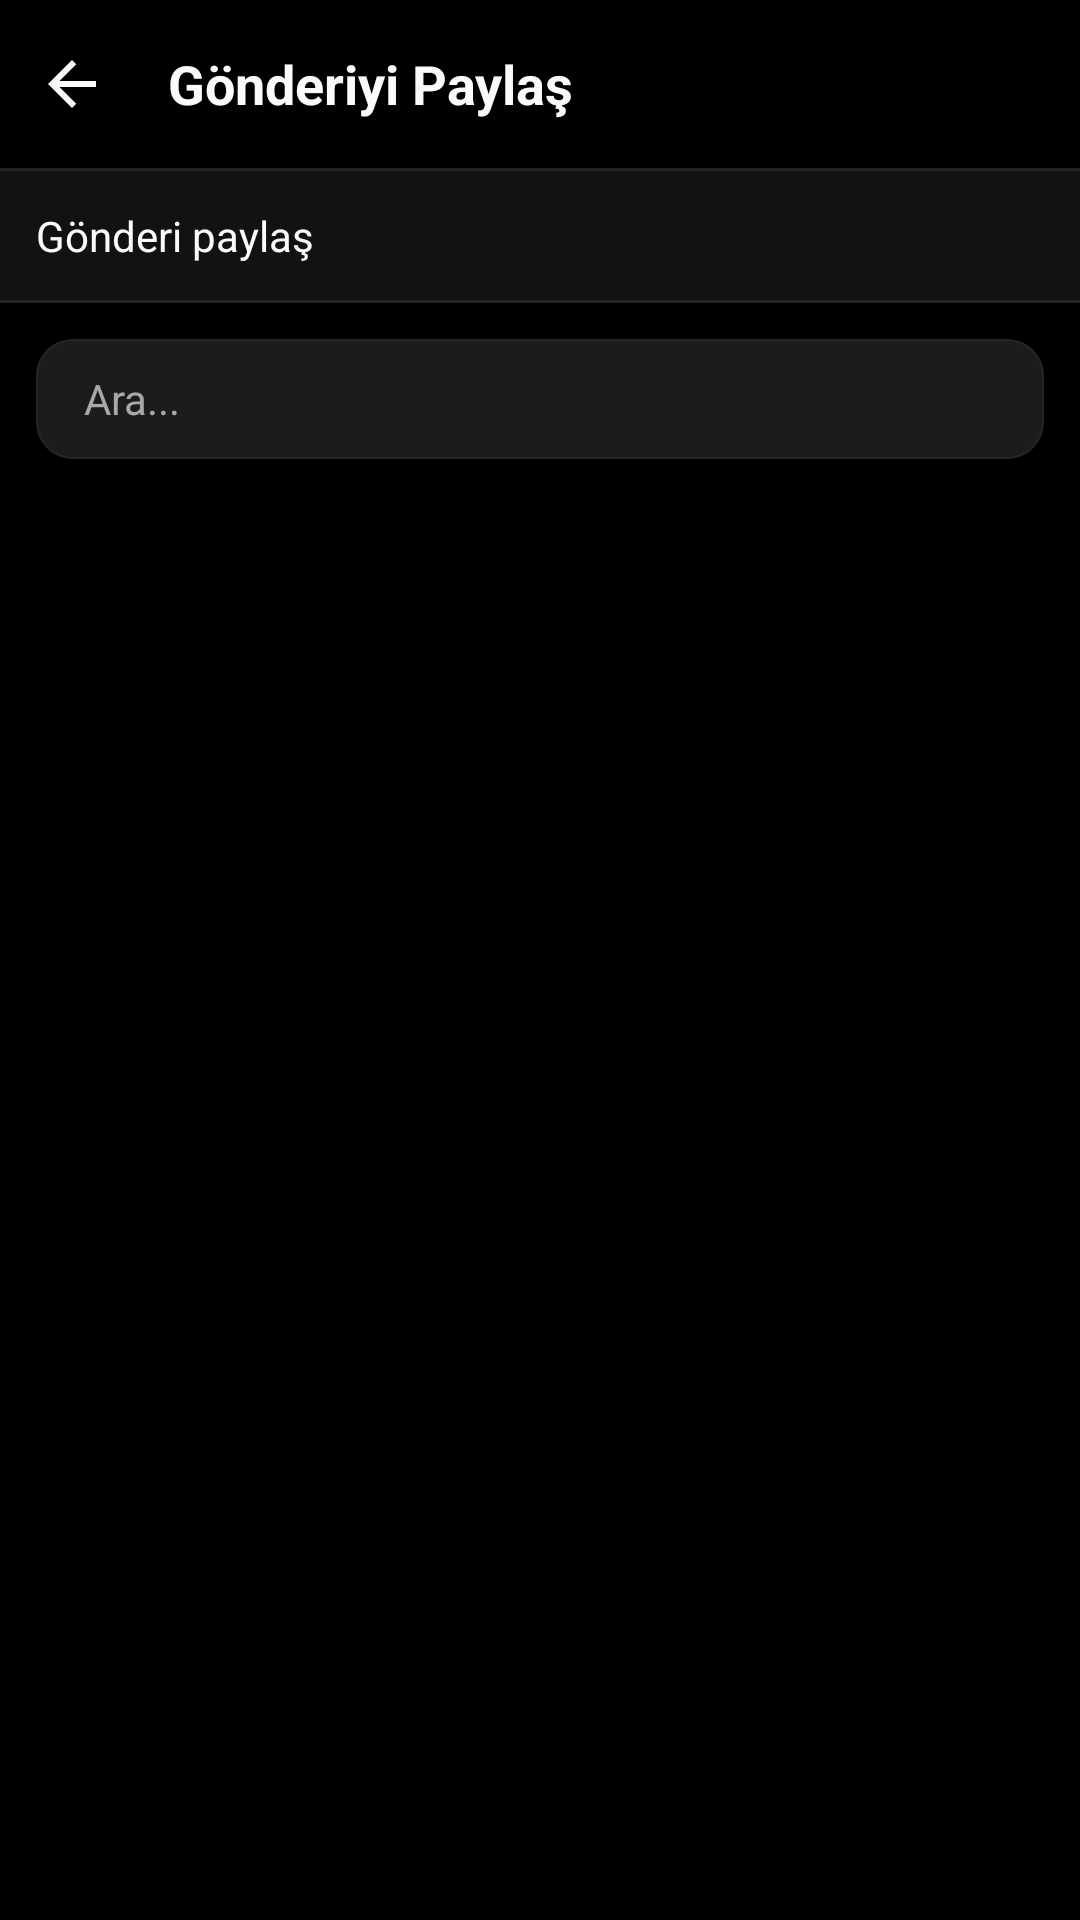

Where to tap for icons on this 1080px×1920px app screen, as (x=x, y=y):
Geri: (x=72, y=84)
